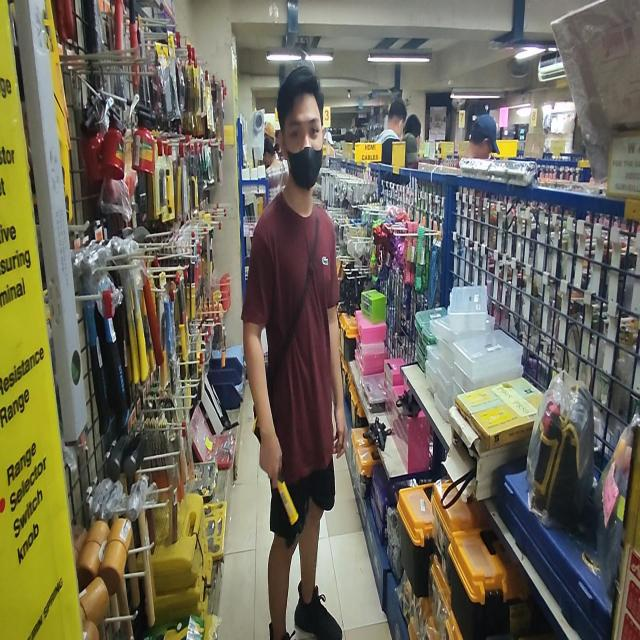hammer: (252, 414, 306, 547)
